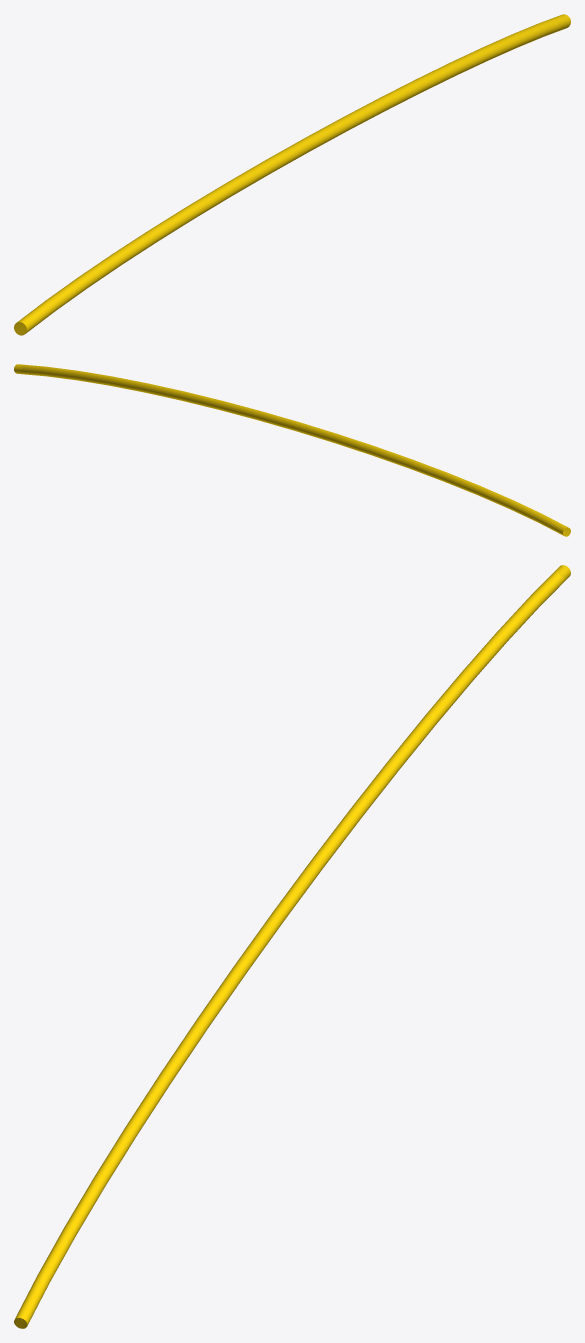
Rendered from Event_421115418_track_209.fbx.
3 views of the same model, one above another, from view 1: azimuth 90°, elevation 25°; view 2: azimuth 150°, elevation 25°; view 3: azimuth 270°, elevation 25° (orthographic). The views are drawn at different scales.
Visible parts, largest first — view 1: Model; view 2: Model; view 3: Model.
Part boxes in pixels (left/top/right/bottom): Model: left=14, top=14, right=570, bottom=335; Model: left=14, top=364, right=570, bottom=536; Model: left=14, top=565, right=570, bottom=1328.
Size of the model in its own units: 3.5 by 0.7211 by 1.55.
